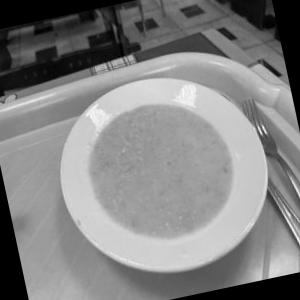porridge: (64, 76, 248, 270)
